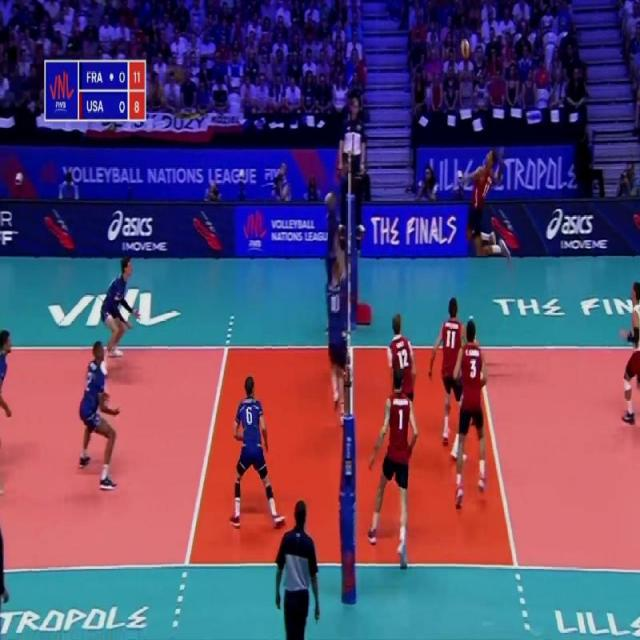volleyball: (460, 38, 470, 58)
